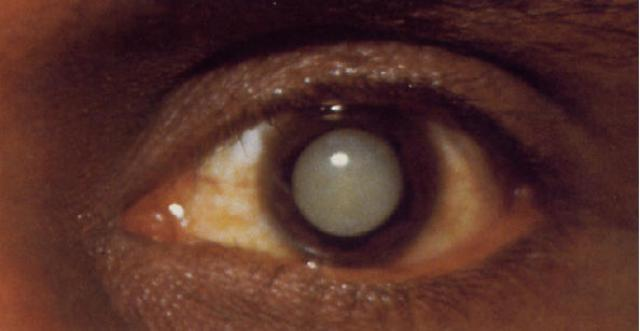eye: (257, 89, 435, 270)
